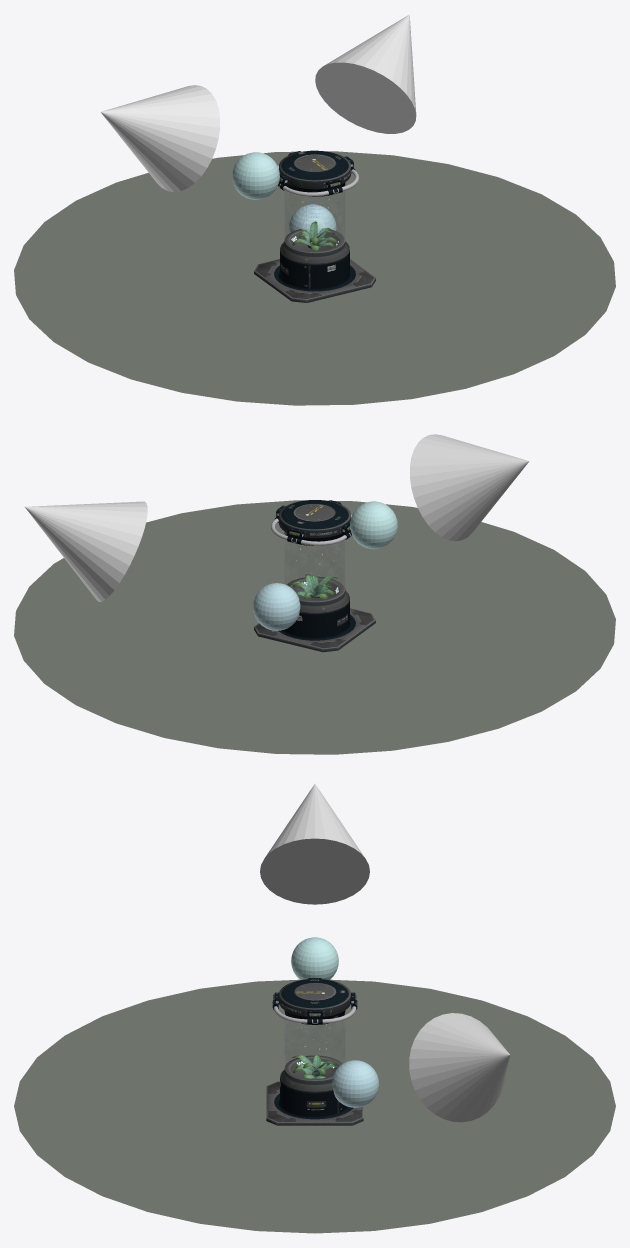
File: bio_chamber_unit.glb
3 views of the same model, one above another, from view 1: azimuth 30°, elevation 25°; view 2: azimuth 150°, elevation 25°; view 3: azimuth 270°, elevation 25° (orthographic).
Parts seen in each view (by area): view 1: Cylinder, HydroUnit_02, camera1, camera2, trigger1, trigger2; view 2: Cylinder, camera1, HydroUnit_02, camera2, trigger1, trigger2; view 3: Cylinder, camera2, camera1, HydroUnit_02, trigger2, trigger1.
Part boxes in pixels (x1=…): Cylinder: x1=14, y1=151, x2=615, y2=405; HydroUnit_02: x1=254, y1=150, x2=375, y2=302; camera1: x1=100, y1=85, x2=219, y2=191; camera2: x1=315, y1=14, x2=416, y2=133; trigger1: x1=232, y1=152, x2=279, y2=199; trigger2: x1=288, y1=204, x2=336, y2=233; Cylinder: x1=14, y1=500, x2=615, y2=754; camera1: x1=410, y1=434, x2=529, y2=541; HydroUnit_02: x1=254, y1=500, x2=375, y2=652; camera2: x1=24, y1=501, x2=147, y2=601; trigger1: x1=350, y1=501, x2=397, y2=549; trigger2: x1=253, y1=583, x2=300, y2=630; Cylinder: x1=14, y1=979, x2=615, y2=1233; camera2: x1=409, y1=1013, x2=510, y2=1122; camera1: x1=260, y1=784, x2=369, y2=904; HydroUnit_02: x1=266, y1=978, x2=363, y2=1125; trigger2: x1=332, y1=1060, x2=378, y2=1107; trigger1: x1=291, y1=937, x2=338, y2=979.
Size of the model in its own units: 10.93 by 4.37 by 10.93.
Materials: 7 (4 with a texture image).
